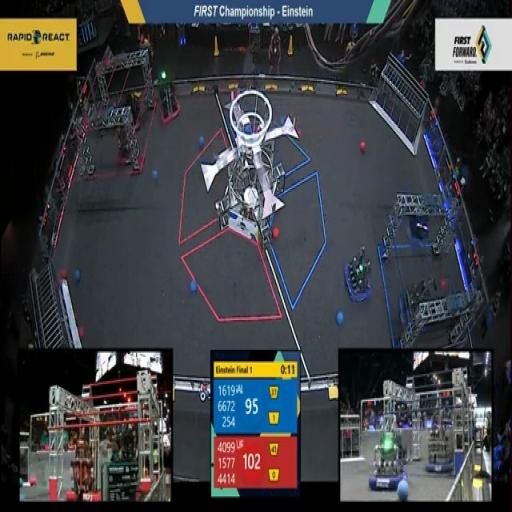robot: (398, 276, 434, 337), (400, 192, 433, 249), (343, 245, 374, 303), (154, 70, 183, 126), (117, 78, 147, 132), (114, 122, 138, 166)
